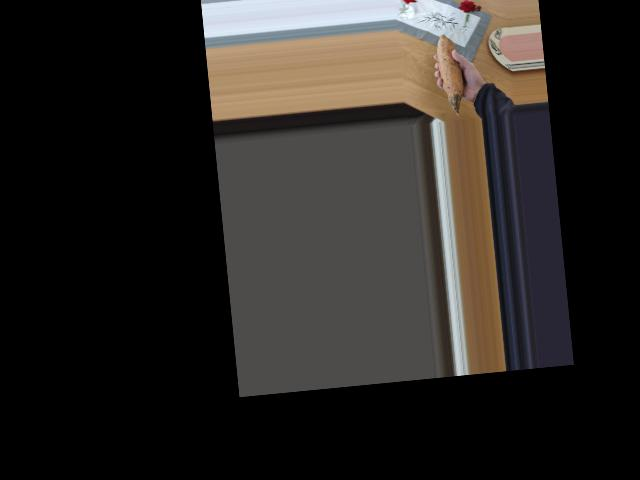sweet_potato: (431, 30, 472, 109)
